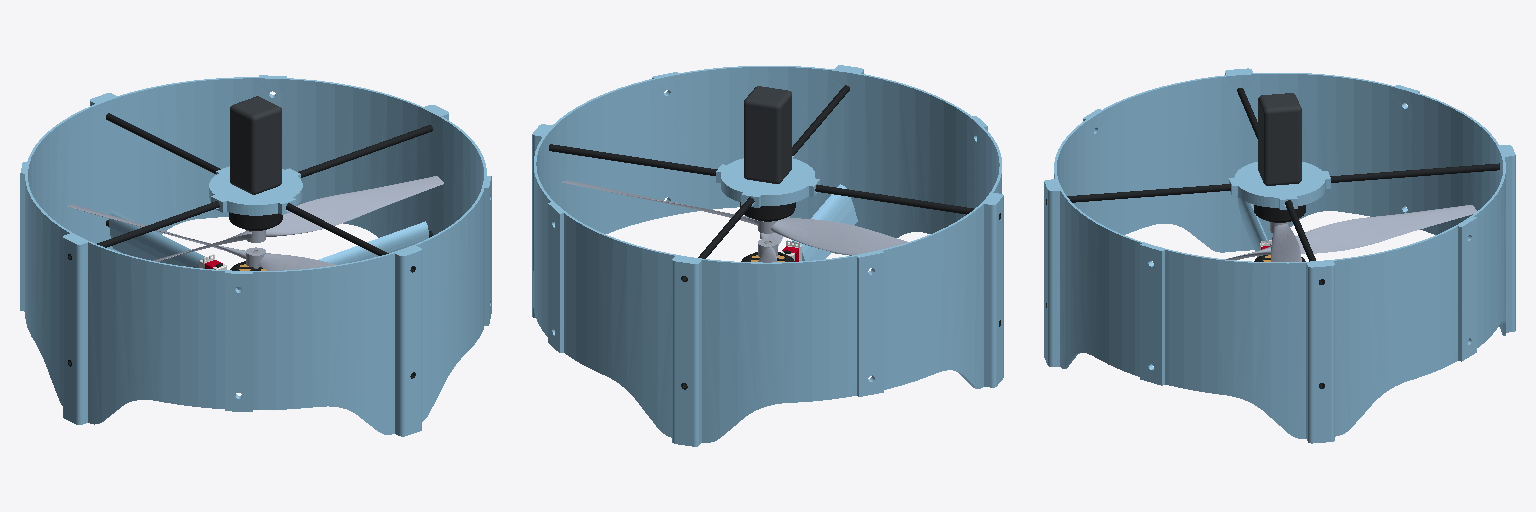
--- What the picture shows (computed from the rendered views, not written in the file) ---
The picture shows the robot from 3 angles, left to right: view 1: azimuth 30°, elevation 25°; view 2: azimuth 150°, elevation 25°; view 3: azimuth 270°, elevation 25°; orthographic projection.
Robot: D:\Smartbot\onshape\sbot\sbot — 7 links, 6 joints (6 revolute); root link base_link; default pose: every joint at zero.
Visible links, largest first — view 1: base_link, part_1, part_1_5, part_1_2, part_1_4; view 2: base_link, part_1, part_1_6, part_1_2; view 3: base_link, part_1_2, part_1, part_1_3.
Link boxes in pixels (x1,y1,x2,y2): base_link: (20,75,491,436); part_1: (153,176,443,261); part_1_5: (109,211,204,267); part_1_2: (67,205,334,270); part_1_4: (319,221,428,264); base_link: (532,65,1003,446); part_1: (562,180,907,254); part_1_6: (792,184,857,260); part_1_2: (758,216,789,262); base_link: (1044,68,1515,443); part_1_2: (1226,205,1476,259); part_1: (1270,222,1301,261); part_1_3: (1237,196,1267,256).
Size in the robot's own frame: 0.4124 by 0.4124 by 0.235 metres.
Meshes: 17 distinct files referenced, 76 mesh visuals loaded (17 binary STL).

URDF robot description (D:\Smartbot\onshape\sbot\sbot):
<?xml version="1.0" ?>
<!-- Generated using onshape-to-robot -->
<!-- Onshape https://cad.onshape.com/documents/32ba62c90fca650d3c7abc1d/w/a8f2a68579428975e343dc54/e/62cfc3e188a1ddf02820c807 -->
<robot name="D:\Smartbot\onshape\sbot\sbot">
  <!-- Link base_link -->
  <link name="base_link">
    <inertial>
      <origin xyz="-0.00431109 0.0148499 0.000737739" rpy="0 0 0"/>
      <mass value="2.36942"/>
      <inertia ixx="0.0315223" ixy="-0.00153153" ixz="-4.31435e-05" iyy="0.0369136" iyz="0.000264105" izz="0.0565658"/>
    </inertial>
    <!-- Part part_1 -->
    <visual>
      <origin xyz="-0.000268768 3.33191e-05 0.0470411" rpy="-5.94293e-14 -8.85039e-14 0.177758"/>
      <geometry>
        <mesh filename="package://assets\part_1.stl"/>
      </geometry>
      <material name="part_1_material">
        <color rgba="0.615686 0.811765 0.929412 1"/>
      </material>
    </visual>
    <collision>
      <origin xyz="-0.000268768 3.33191e-05 0.0470411" rpy="-5.94293e-14 -8.85039e-14 0.177758"/>
      <geometry>
        <mesh filename="package://assets\part_1.stl"/>
      </geometry>
    </collision>
    <!-- Part part_1_2 -->
    <visual>
      <origin xyz="0.0205964 -0.116107 -0.0479589" rpy="-5.93824e-14 -8.85098e-14 0.177758"/>
      <geometry>
        <mesh filename="package://assets\part_1__2.stl"/>
      </geometry>
      <material name="part_1_2_material">
        <color rgba="0.164706 0.176471 0.188235 1"/>
      </material>
    </visual>
    <collision>
      <origin xyz="0.0205964 -0.116107 -0.0479589" rpy="-5.93824e-14 -8.85098e-14 0.177758"/>
      <geometry>
        <mesh filename="package://assets\part_1__2.stl"/>
      </geometry>
    </collision>
    <!-- Part part_1_3 -->
    <visual>
      <origin xyz="-0.000268768 3.33191e-05 -0.0529589" rpy="-5.94394e-14 -8.86199e-14 0.177758"/>
      <geometry>
        <mesh filename="package://assets\part_1__3.stl"/>
      </geometry>
      <material name="part_1_3_material">
        <color rgba="0.615686 0.811765 0.929412 1"/>
      </material>
    </visual>
    <collision>
      <origin xyz="-0.000268768 3.33191e-05 -0.0529589" rpy="-5.94394e-14 -8.86199e-14 0.177758"/>
      <geometry>
        <mesh filename="package://assets\part_1__3.stl"/>
      </geometry>
    </collision>
    <!-- Part part_1_4 -->
    <visual>
      <origin xyz="0.000279384 -0.00301783 -0.0629589" rpy="-5.94293e-14 -8.85098e-14 0.177758"/>
      <geometry>
        <mesh filename="package://assets\part_1__4.stl"/>
      </geometry>
      <material name="part_1_4_material">
        <color rgba="0.615686 0.811765 0.929412 1"/>
      </material>
    </visual>
    <collision>
      <origin xyz="0.000279384 -0.00301783 -0.0629589" rpy="-5.94293e-14 -8.85098e-14 0.177758"/>
      <geometry>
        <mesh filename="package://assets\part_1__4.stl"/>
      </geometry>
    </collision>
    <!-- Part part_1_5 -->
    <visual>
      <origin xyz="-0.0230283 0.0185305 -0.062959" rpy="-1.04734e-13 -2.03782e-14 0.963156"/>
      <geometry>
        <mesh filename="package://assets\part_1__5.stl"/>
      </geometry>
      <material name="part_1_5_material">
        <color rgba="0.615686 0.811765 0.929412 1"/>
      </material>
    </visual>
    <collision>
      <origin xyz="-0.0230283 0.0185305 -0.062959" rpy="-1.04734e-13 -2.03782e-14 0.963156"/>
      <geometry>
        <mesh filename="package://assets\part_1__5.stl"/>
      </geometry>
    </collision>
    <!-- Part part_1_6 -->
    <visual>
      <origin xyz="0.0205964 -0.116107 0.0520411" rpy="-5.94293e-14 -8.85098e-14 0.177758"/>
      <geometry>
        <mesh filename="package://assets\part_1__2.stl"/>
      </geometry>
      <material name="part_1_6_material">
        <color rgba="0.164706 0.176471 0.188235 1"/>
      </material>
    </visual>
    <collision>
      <origin xyz="0.0205964 -0.116107 0.0520411" rpy="-5.94293e-14 -8.85098e-14 0.177758"/>
      <geometry>
        <mesh filename="package://assets\part_1__2.stl"/>
      </geometry>
    </collision>
    <!-- Part part_1_7 -->
    <visual>
      <origin xyz="-0.00327477 0.0167654 0.0945411" rpy="1.5708 -8.85039e-14 0.177758"/>
      <geometry>
        <mesh filename="package://assets\part_1__6.stl"/>
      </geometry>
      <material name="part_1_7_material">
        <color rgba="0.262745 0.282353 0.301961 1"/>
      </material>
    </visual>
    <collision>
      <origin xyz="-0.00327477 0.0167654 0.0945411" rpy="1.5708 -8.85039e-14 0.177758"/>
      <geometry>
        <mesh filename="package://assets\part_1__6.stl"/>
      </geometry>
    </collision>
    <!-- Part part_1_8 -->
    <visual>
      <origin xyz="0.0224907 -0.0184639 -0.062959" rpy="1.04653e-13 2.08892e-14 -2.17844"/>
      <geometry>
        <mesh filename="package://assets\part_1__5.stl"/>
      </geometry>
      <material name="part_1_8_material">
        <color rgba="0.615686 0.811765 0.929412 1"/>
      </material>
    </visual>
    <collision>
      <origin xyz="0.0224907 -0.0184639 -0.062959" rpy="1.04653e-13 2.08892e-14 -2.17844"/>
      <geometry>
        <mesh filename="package://assets\part_1__5.stl"/>
      </geometry>
    </collision>
    <!-- Part part_1_9 -->
    <visual>
      <origin xyz="0.0182284 0.0227928 -0.062959" rpy="2.05933e-14 -1.04438e-13 -0.60764"/>
      <geometry>
        <mesh filename="package://assets\part_1__5.stl"/>
      </geometry>
      <material name="part_1_9_material">
        <color rgba="0.615686 0.811765 0.929412 1"/>
      </material>
    </visual>
    <collision>
      <origin xyz="0.0182284 0.0227928 -0.062959" rpy="2.05933e-14 -1.04438e-13 -0.60764"/>
      <geometry>
        <mesh filename="package://assets\part_1__5.stl"/>
      </geometry>
    </collision>
    <!-- Part part_1_10 -->
    <visual>
      <origin xyz="-0.018766 -0.0227262 -0.062959" rpy="-2.06742e-14 1.04949e-13 2.53395"/>
      <geometry>
        <mesh filename="package://assets\part_1__5.stl"/>
      </geometry>
      <material name="part_1_10_material">
        <color rgba="0.615686 0.811765 0.929412 1"/>
      </material>
    </visual>
    <collision>
      <origin xyz="-0.018766 -0.0227262 -0.062959" rpy="-2.06742e-14 1.04949e-13 2.53395"/>
      <geometry>
        <mesh filename="package://assets\part_1__5.stl"/>
      </geometry>
    </collision>
    <!-- Part part_1_11 -->
    <visual>
      <origin xyz="0.0182284 0.0227928 -0.062959" rpy="2.05933e-14 -1.04438e-13 -0.60764"/>
      <geometry>
        <mesh filename="package://assets\part_1__5.stl"/>
      </geometry>
      <material name="part_1_11_material">
        <color rgba="0.615686 0.811765 0.929412 1"/>
      </material>
    </visual>
    <collision>
      <origin xyz="0.0182284 0.0227928 -0.062959" rpy="2.05933e-14 -1.04438e-13 -0.60764"/>
      <geometry>
        <mesh filename="package://assets\part_1__5.stl"/>
      </geometry>
    </collision>
    <!-- Part part_1_12 -->
    <visual>
      <origin xyz="-0.018766 -0.0227262 -0.062959" rpy="-2.06742e-14 1.04949e-13 2.53395"/>
      <geometry>
        <mesh filename="package://assets\part_1__5.stl"/>
      </geometry>
      <material name="part_1_12_material">
        <color rgba="0.615686 0.811765 0.929412 1"/>
      </material>
    </visual>
    <collision>
      <origin xyz="-0.018766 -0.0227262 -0.062959" rpy="-2.06742e-14 1.04949e-13 2.53395"/>
      <geometry>
        <mesh filename="package://assets\part_1__5.stl"/>
      </geometry>
    </collision>
    <!-- Part part_1_13 -->
    <visual>
      <origin xyz="0.0224907 -0.0184639 -0.062959" rpy="1.04653e-13 2.08892e-14 -2.17844"/>
      <geometry>
        <mesh filename="package://assets\part_1__5.stl"/>
      </geometry>
      <material name="part_1_13_material">
        <color rgba="0.615686 0.811765 0.929412 1"/>
      </material>
    </visual>
    <collision>
      <origin xyz="0.0224907 -0.0184639 -0.062959" rpy="1.04653e-13 2.08892e-14 -2.17844"/>
      <geometry>
        <mesh filename="package://assets\part_1__5.stl"/>
      </geometry>
    </collision>
    <!-- Part part_1_14 -->
    <visual>
      <origin xyz="-0.000268768 3.33191e-05 -0.0529589" rpy="5.94394e-14 8.86199e-14 -2.96383"/>
      <geometry>
        <mesh filename="package://assets\part_1__3.stl"/>
      </geometry>
      <material name="part_1_14_material">
        <color rgba="0.615686 0.811765 0.929412 1"/>
      </material>
    </visual>
    <collision>
      <origin xyz="-0.000268768 3.33191e-05 -0.0529589" rpy="5.94394e-14 8.86199e-14 -2.96383"/>
      <geometry>
        <mesh filename="package://assets\part_1__3.stl"/>
      </geometry>
    </collision>
    <!-- Part windings -->
    <visual>
      <origin xyz="-0.000268768 3.33191e-05 0.0420411" rpy="-1.5708 -8.84855e-14 0.177758"/>
      <geometry>
        <mesh filename="package://assets\windings.stl"/>
      </geometry>
      <material name="windings_material">
        <color rgba="0.858824 0.654902 0.388235 1"/>
      </material>
    </visual>
    <collision>
      <origin xyz="-0.000268768 3.33191e-05 0.0420411" rpy="-1.5708 -8.84855e-14 0.177758"/>
      <geometry>
        <mesh filename="package://assets\windings.stl"/>
      </geometry>
    </collision>
    <!-- Part axis -->
    <visual>
      <origin xyz="-0.000268768 3.33191e-05 0.0420411" rpy="-1.5708 9.44409e-14 -3.07081"/>
      <geometry>
        <mesh filename="package://assets\axis.stl"/>
      </geometry>
      <material name="axis_material">
        <color rgba="0.647059 0.647059 0.647059 1"/>
      </material>
    </visual>
    <collision>
      <origin xyz="-0.000268768 3.33191e-05 0.0420411" rpy="-1.5708 9.44409e-14 -3.07081"/>
      <geometry>
        <mesh filename="package://assets\axis.stl"/>
      </geometry>
    </collision>
    <!-- Part wires -->
    <visual>
      <origin xyz="-0.000268768 3.33191e-05 0.048869" rpy="-3.14159 -1.00937e-13 -0.60764"/>
      <geometry>
        <mesh filename="package://assets\wires.stl"/>
      </geometry>
      <material name="wires_material">
        <color rgba="0.262745 0.282353 0.301961 1"/>
      </material>
    </visual>
    <collision>
      <origin xyz="-0.000268768 3.33191e-05 0.048869" rpy="-3.14159 -1.00937e-13 -0.60764"/>
      <geometry>
        <mesh filename="package://assets\wires.stl"/>
      </geometry>
    </collision>
    <!-- Part stator -->
    <visual>
      <origin xyz="-0.000268768 3.33191e-05 0.0420411" rpy="-1.5708 -8.84977e-14 0.177758"/>
      <geometry>
        <mesh filename="package://assets\stator.stl"/>
      </geometry>
      <material name="stator_material">
        <color rgba="0.901961 0.901961 0.901961 1"/>
      </material>
    </visual>
    <collision>
      <origin xyz="-0.000268768 3.33191e-05 0.0420411" rpy="-1.5708 -8.84977e-14 0.177758"/>
      <geometry>
        <mesh filename="package://assets\stator.stl"/>
      </geometry>
    </collision>
    <!-- Part rotor -->
    <visual>
      <origin xyz="-0.000268768 3.33191e-05 0.0420411" rpy="-1.5708 9.44405e-14 -3.07081"/>
      <geometry>
        <mesh filename="package://assets\rotor.stl"/>
      </geometry>
      <material name="rotor_material">
        <color rgba="0.164706 0.176471 0.188235 1"/>
      </material>
    </visual>
    <collision>
      <origin xyz="-0.000268768 3.33191e-05 0.0420411" rpy="-1.5708 9.44405e-14 -3.07081"/>
      <geometry>
        <mesh filename="package://assets\rotor.stl"/>
      </geometry>
    </collision>
    <!-- Part windings_2 -->
    <visual>
      <origin xyz="-0.000268768 3.33191e-05 -0.0409589" rpy="1.5708 -8.86476e-14 0.177758"/>
      <geometry>
        <mesh filename="package://assets\windings.stl"/>
      </geometry>
      <material name="windings_2_material">
        <color rgba="0.858824 0.654902 0.388235 1"/>
      </material>
    </visual>
    <collision>
      <origin xyz="-0.000268768 3.33191e-05 -0.0409589" rpy="1.5708 -8.86476e-14 0.177758"/>
      <geometry>
        <mesh filename="package://assets\windings.stl"/>
      </geometry>
    </collision>
    <!-- Part axis_2 -->
    <visual>
      <origin xyz="-0.000268768 3.33191e-05 -0.0409589" rpy="1.5708 6.91912e-14 -2.6839"/>
      <geometry>
        <mesh filename="package://assets\axis.stl"/>
      </geometry>
      <material name="axis_2_material">
        <color rgba="0.647059 0.647059 0.647059 1"/>
      </material>
    </visual>
    <collision>
      <origin xyz="-0.000268768 3.33191e-05 -0.0409589" rpy="1.5708 6.91912e-14 -2.6839"/>
      <geometry>
        <mesh filename="package://assets\axis.stl"/>
      </geometry>
    </collision>
    <!-- Part wires_2 -->
    <visual>
      <origin xyz="-0.000268768 3.33191e-05 -0.0477868" rpy="-1.04545e-13 -2.06883e-14 0.963156"/>
      <geometry>
        <mesh filename="package://assets\wires.stl"/>
      </geometry>
      <material name="wires_2_material">
        <color rgba="0.262745 0.282353 0.301961 1"/>
      </material>
    </visual>
    <collision>
      <origin xyz="-0.000268768 3.33191e-05 -0.0477868" rpy="-1.04545e-13 -2.06883e-14 0.963156"/>
      <geometry>
        <mesh filename="package://assets\wires.stl"/>
      </geometry>
    </collision>
    <!-- Part stator_2 -->
    <visual>
      <origin xyz="-0.000268768 3.33191e-05 -0.0409589" rpy="1.5708 -8.86476e-14 0.177758"/>
      <geometry>
        <mesh filename="package://assets\stator.stl"/>
      </geometry>
      <material name="stator_2_material">
        <color rgba="0.901961 0.901961 0.901961 1"/>
      </material>
    </visual>
    <collision>
      <origin xyz="-0.000268768 3.33191e-05 -0.0409589" rpy="1.5708 -8.86476e-14 0.177758"/>
      <geometry>
        <mesh filename="package://assets\stator.stl"/>
      </geometry>
    </collision>
    <!-- Part rotor_2 -->
    <visual>
      <origin xyz="-0.000268768 3.33191e-05 -0.0409589" rpy="1.5708 6.91912e-14 -2.6839"/>
      <geometry>
        <mesh filename="package://assets\rotor.stl"/>
      </geometry>
      <material name="rotor_2_material">
        <color rgba="0.164706 0.176471 0.188235 1"/>
      </material>
    </visual>
    <collision>
      <origin xyz="-0.000268768 3.33191e-05 -0.0409589" rpy="1.5708 6.91912e-14 -2.6839"/>
      <geometry>
        <mesh filename="package://assets\rotor.stl"/>
      </geometry>
    </collision>
    <!-- Part gear -->
    <visual>
      <origin xyz="-0.0131946 0.0719815 -0.0419589" rpy="1.74855 -1.5708 0"/>
      <geometry>
        <mesh filename="package://assets\gear.stl"/>
      </geometry>
      <material name="gear_material">
        <color rgba="0.164706 0.176471 0.188235 1"/>
      </material>
    </visual>
    <collision>
      <origin xyz="-0.0131946 0.0719815 -0.0419589" rpy="1.74855 -1.5708 0"/>
      <geometry>
        <mesh filename="package://assets\gear.stl"/>
      </geometry>
    </collision>
    <!-- Part shielding -->
    <visual>
      <origin xyz="-0.00232036 0.0453852 -0.0364589" rpy="0.177758 -1.5708 0"/>
      <geometry>
        <mesh filename="package://assets\shielding.stl"/>
      </geometry>
      <material name="shielding_material">
        <color rgba="0.772549 0.00784314 0.180392 1"/>
      </material>
    </visual>
    <collision>
      <origin xyz="-0.00232036 0.0453852 -0.0364589" rpy="0.177758 -1.5708 0"/>
      <geometry>
        <mesh filename="package://assets\shielding.stl"/>
      </geometry>
    </collision>
    <!-- Part wire_protector -->
    <visual>
      <origin xyz="-0.00232036 0.0453852 -0.0364589" rpy="0.177758 -1.5708 0"/>
      <geometry>
        <mesh filename="package://assets\wire_protector.stl"/>
      </geometry>
      <material name="wire_protector_material">
        <color rgba="0.164706 0.176471 0.188235 1"/>
      </material>
    </visual>
    <collision>
      <origin xyz="-0.00232036 0.0453852 -0.0364589" rpy="0.177758 -1.5708 0"/>
      <geometry>
        <mesh filename="package://assets\wire_protector.stl"/>
      </geometry>
    </collision>
    <!-- Part housing -->
    <visual>
      <origin xyz="-0.00232036 0.0453852 -0.0364589" rpy="0.177758 -1.5708 0"/>
      <geometry>
        <mesh filename="package://assets\housing.stl"/>
      </geometry>
      <material name="housing_material">
        <color rgba="0.917647 0.917647 0.917647 1"/>
      </material>
    </visual>
    <collision>
      <origin xyz="-0.00232036 0.0453852 -0.0364589" rpy="0.177758 -1.5708 0"/>
      <geometry>
        <mesh filename="package://assets\housing.stl"/>
      </geometry>
    </collision>
    <!-- Part part_1_15 -->
    <visual>
      <origin xyz="-0.116409 -0.0208318 -0.0479589" rpy="8.86769e-14 -5.93293e-14 -1.39304"/>
      <geometry>
        <mesh filename="package://assets\part_1__2.stl"/>
      </geometry>
      <material name="part_1_15_material">
        <color rgba="0.164706 0.176471 0.188235 1"/>
      </material>
    </visual>
    <collision>
      <origin xyz="-0.116409 -0.0208318 -0.0479589" rpy="8.86769e-14 -5.93293e-14 -1.39304"/>
      <geometry>
        <mesh filename="package://assets\part_1__2.stl"/>
      </geometry>
    </collision>
    <!-- Part part_1_16 -->
    <visual>
      <origin xyz="-0.0211339 0.116174 -0.0479589" rpy="5.94964e-14 8.87299e-14 -2.96383"/>
      <geometry>
        <mesh filename="package://assets\part_1__2.stl"/>
      </geometry>
      <material name="part_1_16_material">
        <color rgba="0.164706 0.176471 0.188235 1"/>
      </material>
    </visual>
    <collision>
      <origin xyz="-0.0211339 0.116174 -0.0479589" rpy="5.94964e-14 8.87299e-14 -2.96383"/>
      <geometry>
        <mesh filename="package://assets\part_1__2.stl"/>
      </geometry>
    </collision>
    <!-- Part part_1_17 -->
    <visual>
      <origin xyz="0.115872 0.0208985 -0.0479589" rpy="-8.85628e-14 5.95495e-14 1.74855"/>
      <geometry>
        <mesh filename="package://assets\part_1__2.stl"/>
      </geometry>
      <material name="part_1_17_material">
        <color rgba="0.164706 0.176471 0.188235 1"/>
      </material>
    </visual>
    <collision>
      <origin xyz="0.115872 0.0208985 -0.0479589" rpy="-8.85628e-14 5.95495e-14 1.74855"/>
      <geometry>
        <mesh filename="package://assets\part_1__2.stl"/>
      </geometry>
    </collision>
    <!-- Part part_1_18 -->
    <visual>
      <origin xyz="-0.116409 -0.0208318 -0.0479589" rpy="8.8521e-14 -5.93824e-14 -1.39304"/>
      <geometry>
        <mesh filename="package://assets\part_1__2.stl"/>
      </geometry>
      <material name="part_1_18_material">
        <color rgba="0.164706 0.176471 0.188235 1"/>
      </material>
    </visual>
    <collision>
      <origin xyz="-0.116409 -0.0208318 -0.0479589" rpy="8.8521e-14 -5.93824e-14 -1.39304"/>
      <geometry>
        <mesh filename="package://assets\part_1__2.stl"/>
      </geometry>
    </collision>
    <!-- Part part_1_19 -->
    <visual>
      <origin xyz="0.115872 0.0208985 -0.0479589" rpy="-8.85628e-14 5.95495e-14 1.74855"/>
      <geometry>
        <mesh filename="package://assets\part_1__2.stl"/>
      </geometry>
      <material name="part_1_19_material">
        <color rgba="0.164706 0.176471 0.188235 1"/>
      </material>
    </visual>
    <collision>
      <origin xyz="0.115872 0.0208985 -0.0479589" rpy="-8.85628e-14 5.95495e-14 1.74855"/>
      <geometry>
        <mesh filename="package://assets\part_1__2.stl"/>
      </geometry>
    </collision>
    <!-- Part part_1_20 -->
    <visual>
      <origin xyz="-0.0211339 0.116174 -0.0479589" rpy="5.94394e-14 8.86199e-14 -2.96383"/>
      <geometry>
        <mesh filename="package://assets\part_1__2.stl"/>
      </geometry>
      <material name="part_1_20_material">
        <color rgba="0.164706 0.176471 0.188235 1"/>
      </material>
    </visual>
    <collision>
      <origin xyz="-0.0211339 0.116174 -0.0479589" rpy="5.94394e-14 8.86199e-14 -2.96383"/>
      <geometry>
        <mesh filename="package://assets\part_1__2.stl"/>
      </geometry>
    </collision>
    <!-- Part part_1_21 -->
    <visual>
      <origin xyz="-0.000816921 0.00308447 -0.0629589" rpy="5.94495e-14 8.87299e-14 -2.96383"/>
      <geometry>
        <mesh filename="package://assets\part_1__4.stl"/>
      </geometry>
      <material name="part_1_21_material">
        <color rgba="0.615686 0.811765 0.929412 1"/>
      </material>
    </visual>
    <collision>
      <origin xyz="-0.000816921 0.00308447 -0.0629589" rpy="5.94495e-14 8.87299e-14 -2.96383"/>
      <geometry>
        <mesh filename="package://assets\part_1__4.stl"/>
      </geometry>
    </collision>
    <!-- Part part_1_22 -->
    <visual>
      <origin xyz="-0.116409 -0.0208318 0.0520411" rpy="8.863e-14 -5.93293e-14 -1.39304"/>
      <geometry>
        <mesh filename="package://assets\part_1__2.stl"/>
      </geometry>
      <material name="part_1_22_material">
        <color rgba="0.164706 0.176471 0.188235 1"/>
      </material>
    </visual>
    <collision>
      <origin xyz="-0.116409 -0.0208318 0.0520411" rpy="8.863e-14 -5.93293e-14 -1.39304"/>
      <geometry>
        <mesh filename="package://assets\part_1__2.stl"/>
      </geometry>
    </collision>
    <!-- Part part_1_23 -->
    <visual>
      <origin xyz="-0.116409 -0.0208318 0.0520411" rpy="8.863e-14 -5.93293e-14 -1.39304"/>
      <geometry>
        <mesh filename="package://assets\part_1__2.stl"/>
      </geometry>
      <material name="part_1_23_material">
        <color rgba="0.164706 0.176471 0.188235 1"/>
      </material>
    </visual>
    <collision>
      <origin xyz="-0.116409 -0.0208318 0.0520411" rpy="8.863e-14 -5.93293e-14 -1.39304"/>
      <geometry>
        <mesh filename="package://assets\part_1__2.stl"/>
      </geometry>
    </collision>
    <!-- Part part_1_24 -->
    <visual>
      <origin xyz="-0.0211339 0.116174 0.0520411" rpy="5.94495e-14 8.87299e-14 -2.96383"/>
      <geometry>
        <mesh filename="package://assets\part_1__2.stl"/>
      </geometry>
      <material name="part_1_24_material">
        <color rgba="0.164706 0.176471 0.188235 1"/>
      </material>
    </visual>
    <collision>
      <origin xyz="-0.0211339 0.116174 0.0520411" rpy="5.94495e-14 8.87299e-14 -2.96383"/>
      <geometry>
        <mesh filename="package://assets\part_1__2.stl"/>
      </geometry>
    </collision>
    <!-- Part part_1_25 -->
    <visual>
      <origin xyz="0.00278238 0.000581471 -0.0629589" rpy="-8.86097e-14 5.95495e-14 1.74855"/>
      <geometry>
        <mesh filename="package://assets\part_1__4.stl"/>
      </geometry>
      <material name="part_1_25_material">
        <color rgba="0.615686 0.811765 0.929412 1"/>
      </material>
    </visual>
    <collision>
      <origin xyz="0.00278238 0.000581471 -0.0629589" rpy="-8.86097e-14 5.95495e-14 1.74855"/>
      <geometry>
        <mesh filename="package://assets\part_1__4.stl"/>
      </geometry>
    </collision>
    <!-- Part part_1_26 -->
    <visual>
      <origin xyz="-0.000816921 0.00308447 -0.0629589" rpy="5.94495e-14 8.87299e-14 -2.96383"/>
      <geometry>
        <mesh filename="package://assets\part_1__4.stl"/>
      </geometry>
      <material name="part_1_26_material">
        <color rgba="0.615686 0.811765 0.929412 1"/>
      </material>
    </visual>
    <collision>
      <origin xyz="-0.000816921 0.00308447 -0.0629589" rpy="5.94495e-14 8.87299e-14 -2.96383"/>
      <geometry>
        <mesh filename="package://assets\part_1__4.stl"/>
      </geometry>
    </collision>
    <!-- Part part_1_27 -->
    <visual>
      <origin xyz="0.115872 0.0208985 0.0520411" rpy="-8.86097e-14 5.95495e-14 1.74855"/>
      <geometry>
        <mesh filename="package://assets\part_1__2.stl"/>
      </geometry>
      <material name="part_1_27_material">
        <color rgba="0.164706 0.176471 0.188235 1"/>
      </material>
    </visual>
    <collision>
      <origin xyz="0.115872 0.0208985 0.0520411" rpy="-8.86097e-14 5.95495e-14 1.74855"/>
      <geometry>
        <mesh filename="package://assets\part_1__2.stl"/>
      </geometry>
    </collision>
    <!-- Part part_1_28 -->
    <visual>
      <origin xyz="0.00278238 0.000581471 -0.0629589" rpy="-8.84678e-14 5.96487e-14 1.74855"/>
      <geometry>
        <mesh filename="package://assets\part_1__4.stl"/>
      </geometry>
      <material name="part_1_28_material">
        <color rgba="0.615686 0.811765 0.929412 1"/>
      </material>
    </visual>
    <collision>
      <origin xyz="0.00278238 0.000581471 -0.0629589" rpy="-8.84678e-14 5.96487e-14 1.74855"/>
      <geometry>
        <mesh filename="package://assets\part_1__4.stl"/>
      </geometry>
    </collision>
    <!-- Part part_1_29 -->
    <visual>
      <origin xyz="0.115872 0.0208985 0.0520411" rpy="-8.86097e-14 5.95495e-14 1.74855"/>
      <geometry>
        <mesh filename="package://assets\part_1__2.stl"/>
      </geometry>
      <material name="part_1_29_material">
        <color rgba="0.164706 0.176471 0.188235 1"/>
      </material>
    </visual>
    <collision>
      <origin xyz="0.115872 0.0208985 0.0520411" rpy="-8.86097e-14 5.95495e-14 1.74855"/>
      <geometry>
        <mesh filename="package://assets\part_1__2.stl"/>
      </geometry>
    </collision>
    <!-- Part part_1_30 -->
    <visual>
      <origin xyz="-0.00331992 -0.000514833 -0.0629589" rpy="8.863e-14 -5.93293e-14 -1.39304"/>
      <geometry>
        <mesh filename="package://assets\part_1__4.stl"/>
      </geometry>
      <material name="part_1_30_material">
        <color rgba="0.615686 0.811765 0.929412 1"/>
      </material>
    </visual>
    <collision>
      <origin xyz="-0.00331992 -0.000514833 -0.0629589" rpy="8.863e-14 -5.93293e-14 -1.39304"/>
      <geometry>
        <mesh filename="package://assets\part_1__4.stl"/>
      </geometry>
    </collision>
    <!-- Part part_1_31 -->
    <visual>
      <origin xyz="-0.00331992 -0.000514833 -0.0629589" rpy="8.863e-14 -5.93293e-14 -1.39304"/>
      <geometry>
        <mesh filename="package://assets\part_1__4.stl"/>
      </geometry>
      <material name="part_1_31_material">
        <color rgba="0.615686 0.811765 0.929412 1"/>
      </material>
    </visual>
    <collision>
      <origin xyz="-0.00331992 -0.000514833 -0.0629589" rpy="8.863e-14 -5.93293e-14 -1.39304"/>
      <geometry>
        <mesh filename="package://assets\part_1__4.stl"/>
      </geometry>
    </collision>
    <!-- Part part_1_32 -->
    <visual>
      <origin xyz="-0.0211339 0.116174 0.0520411" rpy="5.94495e-14 8.87299e-14 -2.96383"/>
      <geometry>
        <mesh filename="package://assets\part_1__2.stl"/>
      </geometry>
      <material name="part_1_32_material">
        <color rgba="0.164706 0.176471 0.188235 1"/>
      </material>
    </visual>
    <collision>
      <origin xyz="-0.0211339 0.116174 0.0520411" rpy="5.94495e-14 8.87299e-14 -2.96383"/>
      <geometry>
        <mesh filename="package://assets\part_1__2.stl"/>
      </geometry>
    </collision>
    <!-- Part gear_2 -->
    <visual>
      <origin xyz="0.012657 -0.0719148 -0.0419589" rpy="-1.39304 -1.5708 0"/>
      <geometry>
        <mesh filename="package://assets\gear.stl"/>
      </geometry>
      <material name="gear_2_material">
        <color rgba="0.164706 0.176471 0.188235 1"/>
      </material>
    </visual>
    <collision>
      <origin xyz="0.012657 -0.0719148 -0.0419589" rpy="-1.39304 -1.5708 0"/>
      <geometry>
        <mesh filename="package://assets\gear.stl"/>
      </geometry>
    </collision>
    <!-- Part shielding_2 -->
    <visual>
      <origin xyz="0.00178283 -0.0453185 -0.0364589" rpy="-2.96383 -1.5708 0"/>
      <geometry>
        <mesh filename="package://assets\shielding.stl"/>
      </geometry>
      <material name="shielding_2_material">
        <color rgba="0.772549 0.00784314 0.180392 1"/>
      </material>
    </visual>
    <collision>
      <origin xyz="0.00178283 -0.0453185 -0.0364589" rpy="-2.96383 -1.5708 0"/>
      <geometry>
        <mesh filename="package://assets\shielding.stl"/>
      </geometry>
    </collision>
    <!-- Part wire_protector_2 -->
    <visual>
      <origin xyz="0.00178283 -0.0453185 -0.0364589" rpy="-2.96383 -1.5708 0"/>
      <geometry>
        <mesh filename="package://assets\wire_protector.stl"/>
      </geometry>
      <material name="wire_protector_2_material">
        <color rgba="0.164706 0.176471 0.188235 1"/>
      </material>
    </visual>
    <collision>
      <origin xyz="0.00178283 -0.0453185 -0.0364589" rpy="-2.96383 -1.5708 0"/>
      <geometry>
        <mesh filename="package://assets\wire_protector.stl"/>
      </geometry>
    </collision>
    <!-- Part housing_2 -->
    <visual>
      <origin xyz="0.00178283 -0.0453185 -0.0364589" rpy="-2.96383 -1.5708 0"/>
      <geometry>
        <mesh filename="package://assets\housing.stl"/>
      </geometry>
      <material name="housing_2_material">
        <color rgba="0.917647 0.917647 0.917647 1"/>
      </material>
    </visual>
    <collision>
      <origin xyz="0.00178283 -0.0453185 -0.0364589" rpy="-2.96383 -1.5708 0"/>
      <geometry>
        <mesh filename="package://assets\housing.stl"/>
      </geometry>
    </collision>
    <!-- Part gear_3 -->
    <visual>
      <origin xyz="0.0716794 0.0129591 -0.0419589" rpy="0.177758 -1.5708 0"/>
      <geometry>
        <mesh filename="package://assets\gear.stl"/>
      </geometry>
      <material name="gear_3_material">
        <color rgba="0.164706 0.176471 0.188235 1"/>
      </material>
    </visual>
    <collision>
      <origin xyz="0.0716794 0.0129591 -0.0419589" rpy="0.177758 -1.5708 0"/>
      <geometry>
        <mesh filename="package://assets\gear.stl"/>
      </geometry>
    </collision>
    <!-- Part shielding_3 -->
    <visual>
      <origin xyz="0.0450831 0.00208491 -0.0364589" rpy="-1.39304 -1.5708 0"/>
      <geometry>
        <mesh filename="package://assets\shielding.stl"/>
      </geometry>
      <material name="shielding_3_material">
        <color rgba="0.772549 0.00784314 0.180392 1"/>
      </material>
    </visual>
    <collision>
      <origin xyz="0.0450831 0.00208491 -0.0364589" rpy="-1.39304 -1.5708 0"/>
      <geometry>
        <mesh filename="package://assets\shielding.stl"/>
      </geometry>
    </collision>
    <!-- Part wire_protector_3 -->
    <visual>
      <origin xyz="0.0450831 0.00208491 -0.0364589" rpy="-1.39304 -1.5708 0"/>
      <geometry>
        <mesh filename="package://assets\wire_protector.stl"/>
      </geometry>
      <material name="wire_protector_3_material">
        <color rgba="0.164706 0.176471 0.188235 1"/>
      </material>
    </visual>
    <collision>
      <origin xyz="0.0450831 0.00208491 -0.0364589" rpy="-1.39304 -1.5708 0"/>
      <geometry>
        <mesh filename="package://assets\wire_protector.stl"/>
      </geometry>
    </collision>
    <!-- Part housing_3 -->
    <visual>
      <origin xyz="0.0450831 0.00208491 -0.0364589" rpy="-1.39304 -1.5708 0"/>
      <geometry>
        <mesh filename="package://assets\housing.stl"/>
      </geometry>
      <material name="housing_3_material">
        <color rgba="0.917647 0.917647 0.917647 1"/>
      </material>
    </visual>
    <collision>
      <origin xyz="0.0450831 0.00208491 -0.0364589" rpy="-1.39304 -1.5708 0"/>
      <geometry>
        <mesh filename="package://assets\housing.stl"/>
      </geometry>
    </collision>
    <!-- Part gear_4 -->
    <visual>
      <origin xyz="-0.0722169 -0.0128925 -0.0419589" rpy="-2.96383 -1.5708 0"/>
      <geometry>
        <mesh filename="package://assets\gear.stl"/>
      </geometry>
      <material name="gear_4_material">
        <color rgba="0.164706 0.176471 0.188235 1"/>
      </material>
    </visual>
    <collision>
      <origin xyz="-0.0722169 -0.0128925 -0.0419589" rpy="-2.96383 -1.5708 0"/>
      <geometry>
        <mesh filename="package://assets\gear.stl"/>
      </geometry>
    </collision>
    <!-- Part shielding_4 -->
    <visual>
      <origin xyz="-0.0456206 -0.00201828 -0.0364589" rpy="1.74855 -1.5708 0"/>
      <geometry>
        <mesh filename="package://assets\shielding.stl"/>
      </geometry>
      <material name="shielding_4_material">
        <color rgba="0.772549 0.00784314 0.180392 1"/>
      </material>
    </visual>
    <collision>
      <origin xyz="-0.0456206 -0.00201828 -0.0364589" rpy="1.74855 -1.5708 0"/>
      <geometry>
        <mesh filename="package://assets\shielding.stl"/>
      </geometry>
    </collision>
    <!-- Part wire_protector_4 -->
    <visual>
      <origin xyz="-0.0456206 -0.00201828 -0.0364589" rpy="1.74855 -1.5708 0"/>
      <geometry>
        <mesh filename="package://assets\wire_protector.stl"/>
      </geometry>
      <material name="wire_protector_4_material">
        <color rgba="0.164706 0.176471 0.188235 1"/>
      </material>
    </visual>
    <collision>
      <origin xyz="-0.0456206 -0.00201828 -0.0364589" rpy="1.74855 -1.5708 0"/>
      <geometry>
        <mesh filename="package://assets\wire_protector.stl"/>
      </geometry>
    </collision>
    <!-- Part housing_4 -->
    <visual>
      <origin xyz="-0.0456206 -0.00201828 -0.0364589" rpy="1.74855 -1.5708 0"/>
      <geometry>
        <mesh filename="package://assets\housing.stl"/>
      </geometry>
      <material name="housing_4_material">
        <color rgba="0.917647 0.917647 0.917647 1"/>
      </material>
    </visual>
    <collision>
      <origin xyz="-0.0456206 -0.00201828 -0.0364589" rpy="1.74855 -1.5708 0"/>
      <geometry>
        <mesh filename="package://assets\housing.stl"/>
      </geometry>
    </collision>
    <!-- Part gear_5 -->
    <visual>
      <origin xyz="-0.0722169 -0.0128925 -0.0419589" rpy="-2.96383 -1.5708 0"/>
      <geometry>
        <mesh filename="package://assets\gear.stl"/>
      </geometry>
      <material name="gear_5_material">
        <color rgba="0.164706 0.176471 0.188235 1"/>
      </material>
    </visual>
    <collision>
      <origin xyz="-0.0722169 -0.0128925 -0.0419589" rpy="-2.96383 -1.5708 0"/>
      <geometry>
        <mesh filename="package://assets\gear.stl"/>
      </geometry>
    </collision>
    <!-- Part shielding_5 -->
    <visual>
      <origin xyz="-0.0456206 -0.00201828 -0.0364589" rpy="1.74855 -1.5708 0"/>
      <geometry>
        <mesh filename="package://assets\shielding.stl"/>
      </geometry>
      <material name="shielding_5_material">
        <color rgba="0.772549 0.00784314 0.180392 1"/>
      </material>
    </visual>
    <collision>
      <origin xyz="-0.0456206 -0.00201828 -0.0364589" rpy="1.74855 -1.5708 0"/>
      <geometry>
        <mesh filename="package://assets\shielding.stl"/>
      </geometry>
    </collision>
    <!-- Part wire_protector_5 -->
    <visual>
      <origin xyz="-0.0456206 -0.00201828 -0.0364589" rpy="1.74855 -1.5708 0"/>
      <geometry>
        <mesh filename="package://assets\wire_protector.stl"/>
      </geometry>
      <material name="wire_protector_5_material">
        <color rgba="0.164706 0.176471 0.188235 1"/>
      </material>
    </visual>
    <collision>
      <origin xyz="-0.0456206 -0.00201828 -0.0364589" rpy="1.74855 -1.5708 0"/>
      <geometry>
        <mesh filename="package://assets\wire_protector.stl"/>
      </geometry>
    </collision>
    <!-- Part housing_5 -->
    <visual>
      <origin xyz="-0.0456206 -0.00201828 -0.0364589" rpy="1.74855 -1.5708 0"/>
      <geometry>
        <mesh filename="package://assets\housing.stl"/>
      </geometry>
      <material name="housing_5_material">
        <color rgba="0.917647 0.917647 0.917647 1"/>
      </material>
    </visual>
    <collision>
      <origin xyz="-0.0456206 -0.00201828 -0.0364589" rpy="1.74855 -1.5708 0"/>
      <geometry>
        <mesh filename="package://assets\housing.stl"/>
      </geometry>
    </collision>
    <!-- Part gear_6 -->
    <visual>
      <origin xyz="0.012657 -0.0719148 -0.0419589" rpy="-1.39304 -1.5708 0"/>
      <geometry>
        <mesh filename="package://assets\gear.stl"/>
      </geometry>
      <material name="gear_6_material">
        <color rgba="0.164706 0.176471 0.188235 1"/>
      </material>
    </visual>
    <collision>
      <origin xyz="0.012657 -0.0719148 -0.0419589" rpy="-1.39304 -1.5708 0"/>
      <geometry>
        <mesh filename="package://assets\gear.stl"/>
      </geometry>
    </collision>
    <!-- Part shielding_6 -->
    <visual>
      <origin xyz="0.00178283 -0.0453185 -0.0364589" rpy="-2.96383 -1.5708 0"/>
      <geometry>
        <mesh filename="package://assets\shielding.stl"/>
      </geometry>
      <material name="shielding_6_material">
        <color rgba="0.772549 0.00784314 0.180392 1"/>
      </material>
    </visual>
    <collision>
      <origin xyz="0.00178283 -0.0453185 -0.0364589" rpy="-2.96383 -1.5708 0"/>
      <geometry>
        <mesh filename="package://assets\shielding.stl"/>
      </geometry>
    </collision>
    <!-- Part wire_protector_6 -->
    <visual>
      <origin xyz="0.00178283 -0.0453185 -0.0364589" rpy="-2.96383 -1.5708 0"/>
      <geometry>
        <mesh filename="package://assets\wire_protector.stl"/>
      </geometry>
      <material name="wire_protector_6_material">
        <color rgba="0.164706 0.176471 0.188235 1"/>
      </material>
    </visual>
    <collision>
      <origin xyz="0.00178283 -0.0453185 -0.0364589" rpy="-2.96383 -1.5708 0"/>
      <geometry>
        <mesh filename="package://assets\wire_protector.stl"/>
      </geometry>
    </collision>
    <!-- Part housing_6 -->
    <visual>
      <origin xyz="0.00178283 -0.0453185 -0.0364589" rpy="-2.96383 -1.5708 0"/>
      <geometry>
        <mesh filename="package://assets\housing.stl"/>
      </geometry>
      <material name="housing_6_material">
        <color rgba="0.917647 0.917647 0.917647 1"/>
      </material>
    </visual>
    <collision>
      <origin xyz="0.00178283 -0.0453185 -0.0364589" rpy="-2.96383 -1.5708 0"/>
      <geometry>
        <mesh filename="package://assets\housing.stl"/>
      </geometry>
    </collision>
    <!-- Part gear_7 -->
    <visual>
      <origin xyz="0.0716794 0.0129591 -0.0419589" rpy="0.177758 -1.5708 0"/>
      <geometry>
        <mesh filename="package://assets\gear.stl"/>
      </geometry>
      <material name="gear_7_material">
        <color rgba="0.164706 0.176471 0.188235 1"/>
      </material>
    </visual>
    <collision>
      <origin xyz="0.0716794 0.0129591 -0.0419589" rpy="0.177758 -1.5708 0"/>
      <geometry>
        <mesh filename="package://assets\gear.stl"/>
      </geometry>
    </collision>
    <!-- Part shielding_7 -->
    <visual>
      <origin xyz="0.0450831 0.00208491 -0.0364589" rpy="-1.39304 -1.5708 0"/>
      <geometry>
        <mesh filename="package://assets\shielding.stl"/>
      </geometry>
      <material name="shielding_7_material">
        <color rgba="0.772549 0.00784314 0.180392 1"/>
      </material>
    </visual>
    <collision>
      <origin xyz="0.0450831 0.00208491 -0.0364589" rpy="-1.39304 -1.5708 0"/>
      <geometry>
        <mesh filename="package://assets\shielding.stl"/>
      </geometry>
    </collision>
    <!-- Part wire_protector_7 -->
    <visual>
      <origin xyz="0.0450831 0.00208491 -0.0364589" rpy="-1.39304 -1.5708 0"/>
      <geometry>
        <mesh filename="package://assets\wire_protector.stl"/>
      </geometry>
      <material name="wire_protector_7_material">
        <color rgba="0.164706 0.176471 0.188235 1"/>
      </material>
    </visual>
    <collision>
      <origin xyz="0.0450831 0.00208491 -0.0364589" rpy="-1.39304 -1.5708 0"/>
      <geometry>
        <mesh filename="package://assets\wire_protector.stl"/>
      </geometry>
    </collision>
    <!-- Part housing_7 -->
    <visual>
      <origin xyz="0.0450831 0.00208491 -0.0364589" rpy="-1.39304 -1.5708 0"/>
      <geometry>
        <mesh filename="package://assets\housing.stl"/>
      </geometry>
      <material name="housing_7_material">
        <color rgba="0.917647 0.917647 0.917647 1"/>
      </material>
    </visual>
    <collision>
      <origin xyz="0.0450831 0.00208491 -0.0364589" rpy="-1.39304 -1.5708 0"/>
      <geometry>
        <mesh filename="package://assets\housing.stl"/>
      </geometry>
    </collision>
  </link>
  <!-- Link part_1 -->
  <link name="part_1">
    <inertial>
      <origin xyz="-1.43796e-07 -4.42918e-08 -0.00557086" rpy="0 0 0"/>
      <mass value="0.0246185"/>
      <inertia ixx="8.6405e-07" ixy="-1.03369e-06" ixz="-1.18119e-12" iyy="0.000188612" iyz="-4.52744e-12" izz="0.000189038"/>
    </inertial>
    <!-- Part part_1_33 -->
    <visual>
      <origin xyz="5.42101e-20 6.77626e-21 -0.011" rpy="-1.79134e-30 -1.35629e-29 2.08726e-18"/>
      <geometry>
        <mesh filename="package://assets\part_1__7.stl"/>
      </geometry>
      <material name="part_1_33_material">
        <color rgba="0.666667 0.701961 0.764706 1"/>
      </material>
    </visual>
    <collision>
      <origin xyz="5.42101e-20 6.77626e-21 -0.011" rpy="-1.79134e-30 -1.35629e-29 2.08726e-18"/>
      <geometry>
        <mesh filename="package://assets\part_1__7.stl"/>
      </geometry>
    </collision>
  </link>
  <!-- Joint from base_link to part_1 -->
  <joint name="prop2" type="revolute">
    <origin xyz="-0.000268768 3.33191e-05 0.0065411" rpy="-3.14159 9.43858e-14 -3.07081"/>
    <parent link="base_link"/>
    <child link="part_1"/>
    <axis xyz="0 0 1"/>
    <limit effort="10" velocity="10" lower="-3.141592653589793" upper="3.141592653589793"/>
  </joint>
  <!-- Link part_1_2 -->
  <link name="part_1_2">
    <inertial>
      <origin xyz="-1.43796e-07 -4.42918e-08 -0.00557086" rpy="0 0 0"/>
      <mass value="0.0246185"/>
      <inertia ixx="8.6405e-07" ixy="-1.03369e-06" ixz="-1.18119e-12" iyy="0.000188612" iyz="-4.52744e-12" izz="0.000189038"/>
    </inertial>
    <!-- Part part_1_34 -->
    <visual>
      <origin xyz="2.71051e-20 0 -0.011" rpy="1.26218e-29 -0 -5.09389e-20"/>
      <geometry>
        <mesh filename="package://assets\part_1__7.stl"/>
      </geometry>
      <material name="part_1_34_material">
        <color rgba="0.666667 0.701961 0.764706 1"/>
      </material>
    </visual>
    <collision>
      <origin xyz="2.71051e-20 0 -0.011" rpy="1.26218e-29 -0 -5.09389e-20"/>
      <geometry>
        <mesh filename="package://assets\part_1__7.stl"/>
      </geometry>
    </collision>
  </link>
  <!-- Joint from base_link to part_1_2 -->
  <joint name="prop1" type="revolute">
    <origin xyz="-0.000268768 3.33191e-05 -0.0054589" rpy="6.87471e-14 -8.1611e-14 -1.1131"/>
    <parent link="base_link"/>
    <child link="part_1_2"/>
    <axis xyz="0 0 1"/>
    <limit effort="10" velocity="10" lower="-3.141592653589793" upper="3.141592653589793"/>
  </joint>
  <!-- Link part_1_3 -->
  <link name="part_1_3">
    <inertial>
      <origin xyz="2.0236e-08 -0.00754039 -0.06" rpy="0 0 0"/>
      <mass value="0.0337874"/>
      <inertia ixx="4.28286e-05" ixy="-2.06499e-12" ixz="1.20425e-11" iyy="4.06764e-05" iyz="-1.29242e-11" izz="2.41424e-06"/>
    </inertial>
    <!-- Part part_1_35 -->
    <visual>
      <origin xyz="-2.50722e-18 0 -0.06" rpy="-1.5708 -1.34606e-17 1.26218e-29"/>
      <geometry>
        <mesh filename="package://assets\part_1__8.stl"/>
      </geometry>
      <material name="part_1_35_material">
        <color rgba="0.615686 0.811765 0.929412 1"/>
      </material>
    </visual>
    <collision>
      <origin xyz="-2.50722e-18 0 -0.06" rpy="-1.5708 -1.34606e-17 1.26218e-29"/>
      <geometry>
        <mesh filename="package://assets\part_1__8.stl"/>
      </geometry>
    </collision>
  </link>
  <!-- Joint from base_link to part_1_3 -->
  <joint name="vane2" type="revolute">
    <origin xyz="-0.0687721 -0.0122736 -0.0419589" rpy="1.5708 6.16138e-14 1.74855"/>
    <parent link="base_link"/>
    <child link="part_1_3"/>
    <axis xyz="0 0 1"/>
    <limit effort="10" velocity="10" lower="-1.0472" upper="1.0472"/>
  </joint>
  <!-- Link part_1_4 -->
  <link name="part_1_4">
    <inertial>
      <origin xyz="2.0236e-08 -0.00754039 -0.06" rpy="0 0 0"/>
      <mass value="0.0337874"/>
      <inertia ixx="4.28286e-05" ixy="-2.06499e-12" ixz="1.20425e-11" iyy="4.06764e-05" iyz="-1.29242e-11" izz="2.41424e-06"/>
    </inertial>
    <!-- Part part_1_36 -->
    <visual>
      <origin xyz="-3.97089e-18 6.93889e-18 -0.06" rpy="-1.5708 2.4606e-17 0"/>
      <geometry>
        <mesh filename="package://assets\part_1__8.stl"/>
      </geometry>
      <material name="part_1_36_material">
        <color rgba="0.615686 0.811765 0.929412 1"/>
      </material>
    </visual>
    <collision>
      <origin xyz="-3.97089e-18 6.93889e-18 -0.06" rpy="-1.5708 2.4606e-17 0"/>
      <geometry>
        <mesh filename="package://assets\part_1__8.stl"/>
      </geometry>
    </collision>
  </link>
  <!-- Joint from base_link to part_1_4 -->
  <joint name="vane4" type="revolute">
    <origin xyz="0.0682345 0.0123402 -0.0419589" rpy="1.5708 -6.0958e-14 -1.39304"/>
    <parent link="base_link"/>
    <child link="part_1_4"/>
    <axis xyz="0 0 1"/>
    <limit effort="10" velocity="10" lower="-1.0472" upper="1.0472"/>
  </joint>
  <!-- Link part_1_5 -->
  <link name="part_1_5">
    <inertial>
      <origin xyz="2.0236e-08 0.00754039 -0.06" rpy="0 0 0"/>
      <mass value="0.0337874"/>
      <inertia ixx="4.28286e-05" ixy="2.06499e-12" ixz="-1.20425e-11" iyy="4.06764e-05" iyz="-1.29242e-11" izz="2.41424e-06"/>
    </inertial>
    <!-- Part part_1_37 -->
    <visual>
      <origin xyz="-5.74627e-18 6.93889e-18 -0.06" rpy="1.5708 2.54382e-17 -1.84773e-29"/>
      <geometry>
        <mesh filename="package://assets\part_1__8.stl"/>
      </geometry>
      <material name="part_1_37_material">
        <color rgba="0.615686 0.811765 0.929412 1"/>
      </material>
    </visual>
    <collision>
      <origin xyz="-5.74627e-18 6.93889e-18 -0.06" rpy="1.5708 2.54382e-17 -1.84773e-29"/>
      <geometry>
        <mesh filename="package://assets\part_1__8.stl"/>
      </geometry>
    </collision>
  </link>
  <!-- Joint from base_link to part_1_5 -->
  <joint name="vane1" type="revolute">
    <origin xyz="-0.0125757 0.0685366 -0.0419589" rpy="-1.5708 7.8526e-14 -2.96383"/>
    <parent link="base_link"/>
    <child link="part_1_5"/>
    <axis xyz="0 0 1"/>
    <limit effort="10" velocity="10" lower="-1.0472" upper="1.0472"/>
  </joint>
  <!-- Link part_1_6 -->
  <link name="part_1_6">
    <inertial>
      <origin xyz="2.0236e-08 -0.00754039 -0.06" rpy="0 0 0"/>
      <mass value="0.0337874"/>
      <inertia ixx="4.28286e-05" ixy="-2.06499e-12" ixz="1.20425e-11" iyy="4.06764e-05" iyz="-1.29242e-11" izz="2.41424e-06"/>
    </inertial>
    <!-- Part part_1_38 -->
    <visual>
      <origin xyz="-3.46945e-18 -6.93889e-18 -0.06" rpy="-1.5708 1.79373e-17 -2.21393e-18"/>
      <geometry>
        <mesh filename="package://assets\part_1__8.stl"/>
      </geometry>
      <material name="part_1_38_material">
        <color rgba="0.615686 0.811765 0.929412 1"/>
      </material>
    </visual>
    <collision>
      <origin xyz="-3.46945e-18 -6.93889e-18 -0.06" rpy="-1.5708 1.79373e-17 -2.21393e-18"/>
      <geometry>
        <mesh filename="package://assets\part_1__8.stl"/>
      </geometry>
    </collision>
  </link>
  <!-- Joint from base_link to part_1_6 -->
  <joint name="vane3" type="revolute">
    <origin xyz="0.0120381 -0.06847 -0.0419589" rpy="1.5708 -0.458967 -2.96383"/>
    <parent link="base_link"/>
    <child link="part_1_6"/>
    <axis xyz="0 0 1"/>
    <limit effort="10" velocity="10" lower="-1.50616" upper="0.58823"/>
  </joint>
</robot>
